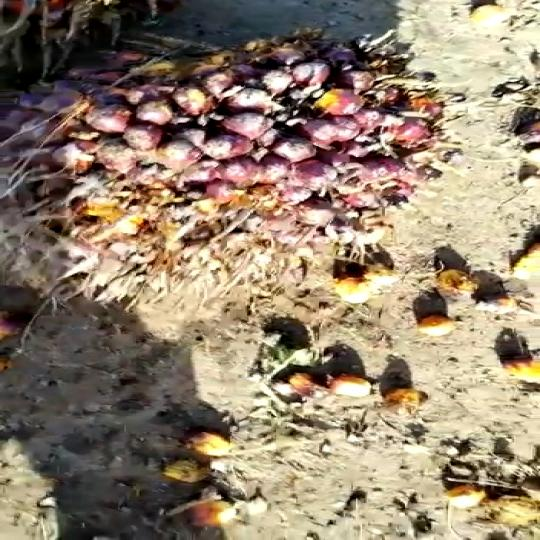masak: (0, 17, 485, 310)
